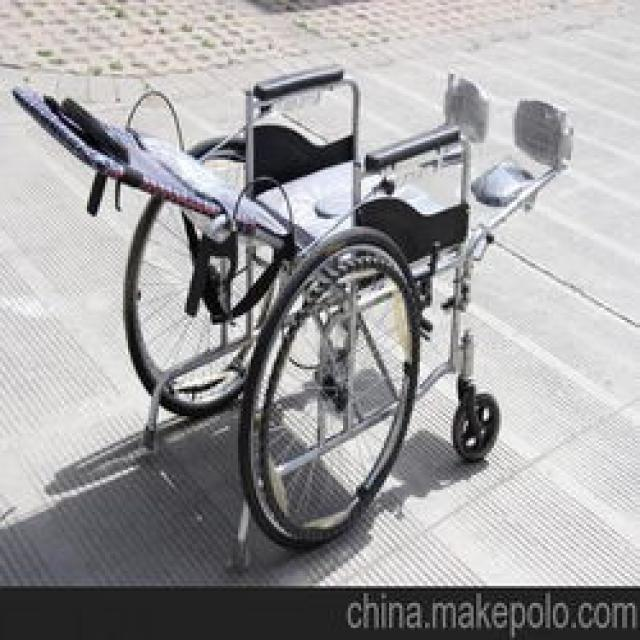wheelchair: (10, 49, 566, 569)
